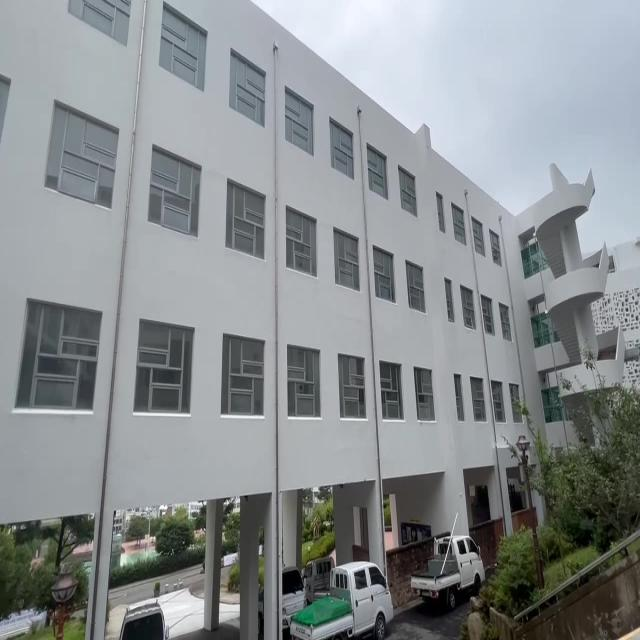building: (22, 30, 516, 453)
